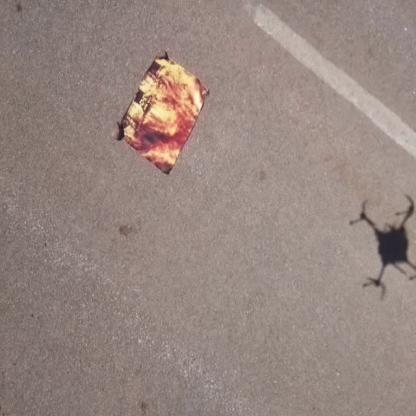fire-poster: (116, 48, 210, 177)
